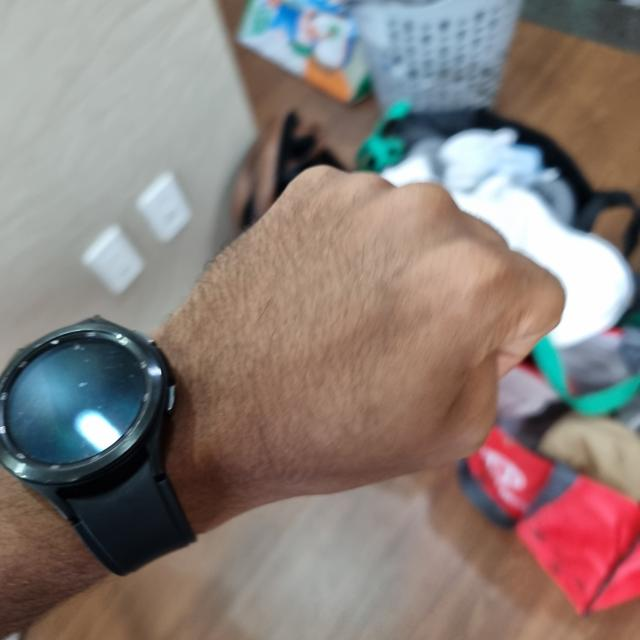Rock: (155, 171, 555, 524)
